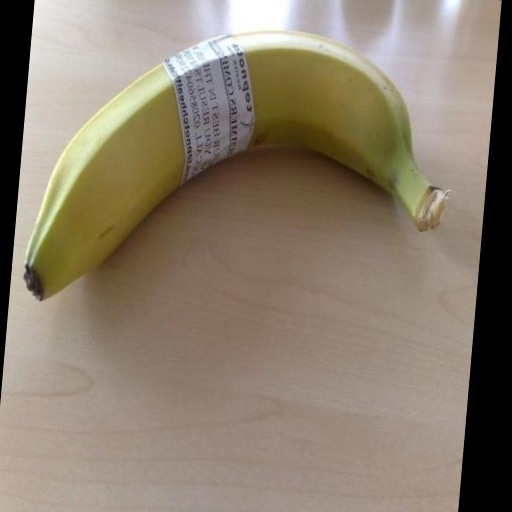fruit: (234, 31, 446, 230)
